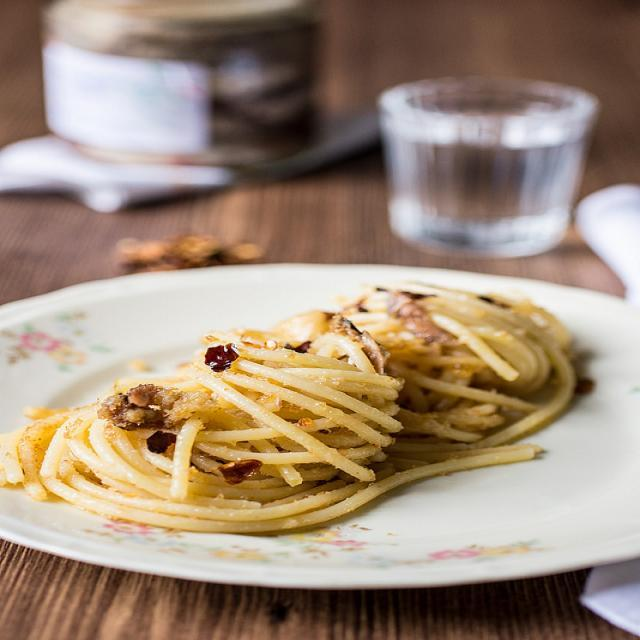Oil pasta: (40, 220, 640, 539)
